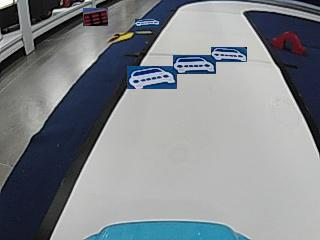bridge: (273, 30, 305, 54)
